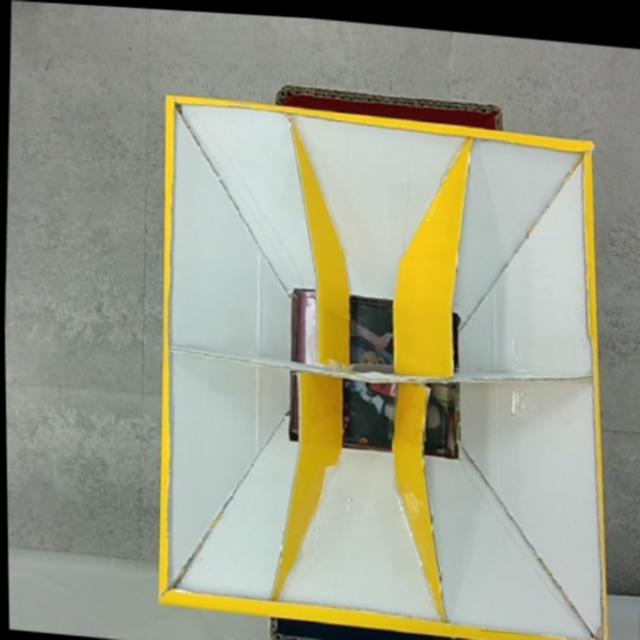box: (146, 67, 626, 640)
